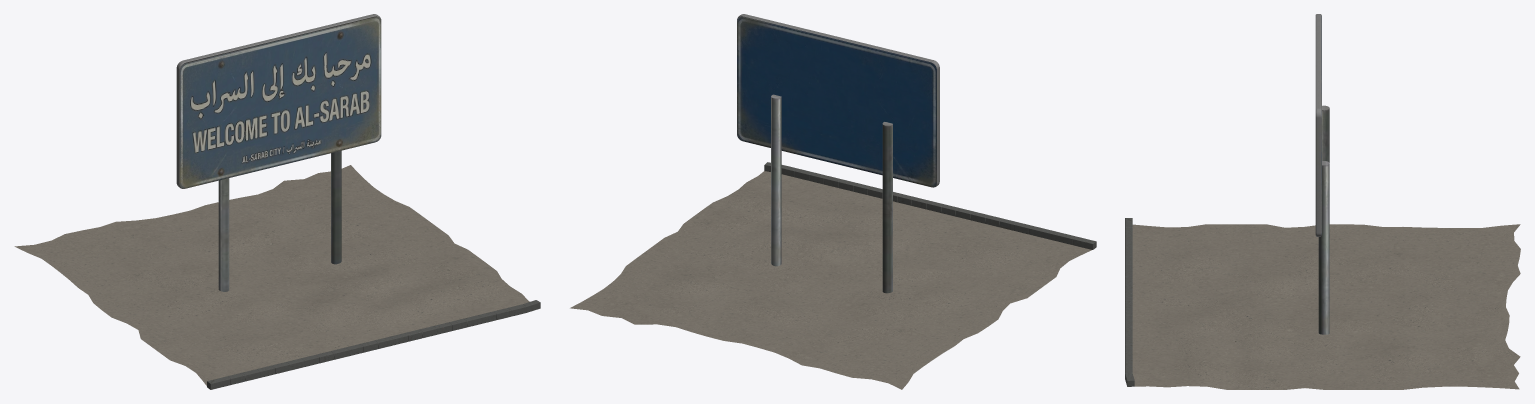
File: Billboard.fbx
3 views of the same model, side by side, from view 1: azimuth 30°, elevation 25°; view 2: azimuth 150°, elevation 25°; view 3: azimuth 270°, elevation 25° (orthographic).
Parts seen in each view (by area): view 1: pPlane1, pCube1, pCube24, pCylinder3; view 2: pPlane1, pCube1, pCylinder3, pCube24; view 3: pPlane1, pCylinder3, pCube1, pCube24.
Boxes of the visible parts, x1,y1,x2,y2 form: pPlane1: (14,165,529,385); pCube1: (176,14,381,188); pCube24: (207,300,540,389); pCylinder3: (218,150,341,291); pPlane1: (570,171,1091,389); pCube1: (737,14,939,187); pCylinder3: (771,94,892,293); pCube24: (764,162,1096,249); pPlane1: (1132,224,1520,389); pCylinder3: (1318,105,1329,334); pCube1: (1315,14,1321,236); pCube24: (1125,218,1134,386).
Size of the model in its own units: 1 by 0.685 by 1.01.
6 materials, 6 textured.
